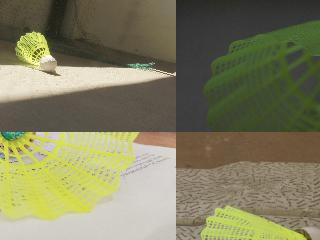shuttlecock: (203, 0, 319, 131), (0, 132, 141, 220), (198, 206, 319, 239), (14, 31, 56, 71)
